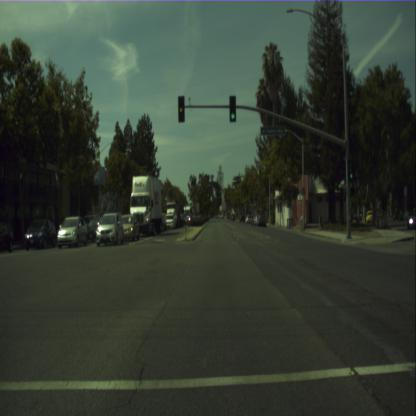Green: (229, 95, 236, 121), (348, 160, 356, 182)
Yellow: (178, 96, 184, 122)
